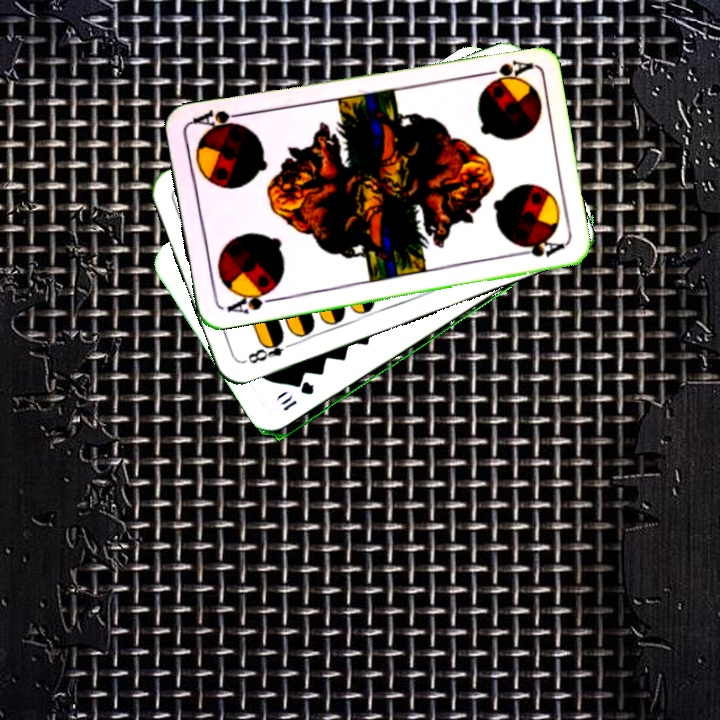E8: (241, 332, 298, 367)
G10: (276, 380, 317, 414)
SA: (223, 284, 280, 317), (475, 56, 534, 85)
